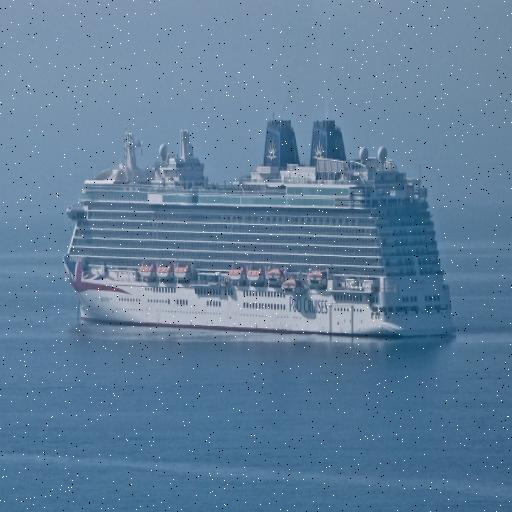cruises: (60, 108, 468, 357)
